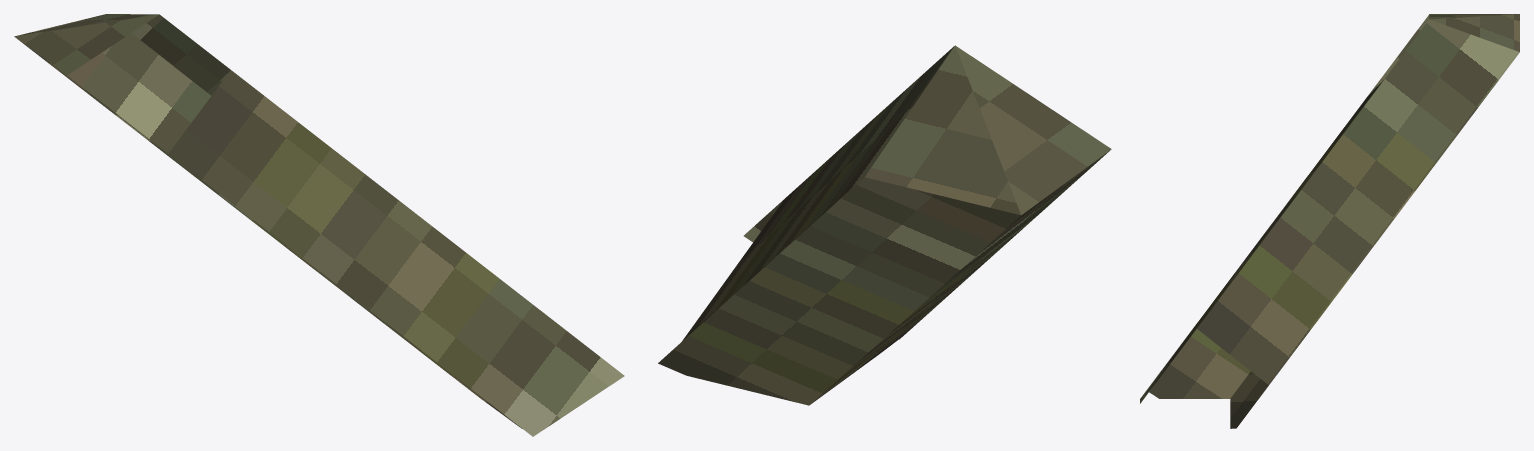
Rendered from maple_thin_branch_45_diagonal.obj.
3 views of the same model, side by side, from view 1: azimuth 30°, elevation 25°; view 2: azimuth 150°, elevation 25°; view 3: azimuth 270°, elevation 25° (orthographic). The views are drawn at different scales.
Visible parts, largest first — view 1: cube_selection; view 2: cube_selection; view 3: cube_selection.
Boxes of the visible parts, <box> form: cube_selection: <box>14,14,624,436</box>; cube_selection: <box>658,45,1111,405</box>; cube_selection: <box>1140,14,1519,428</box>.
Bounding box in the file's own units: 1.31 × 1.12 × 1.31.
